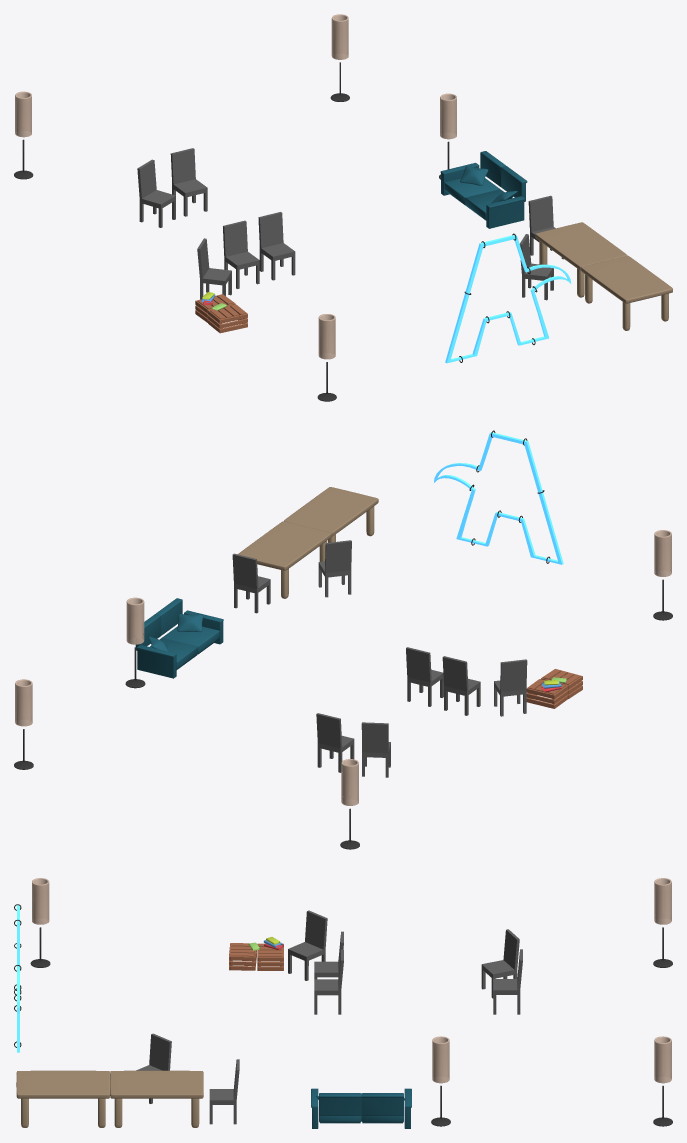
File: d2x3Shape Sampleroom - Deko.glb
The picture shows the model from 3 angles, top to bottom: view 1: azimuth 30°, elevation 25°; view 2: azimuth 150°, elevation 25°; view 3: azimuth 270°, elevation 25°; orthographic projection. The views are drawn at different scales.
Visible parts, largest first — view 1: Deko_2x3_Shape; view 2: Deko_2x3_Shape; view 3: Deko_2x3_Shape.
Boxes of the visible parts, box(x1,y1,x2,y2) form: Deko_2x3_Shape: box(14, 14, 672, 401); Deko_2x3_Shape: box(14, 430, 672, 849); Deko_2x3_Shape: box(14, 878, 672, 1128).
Size of the model in its own units: 7.97 by 2.8 by 12.65.
15 materials, 1 textured.
